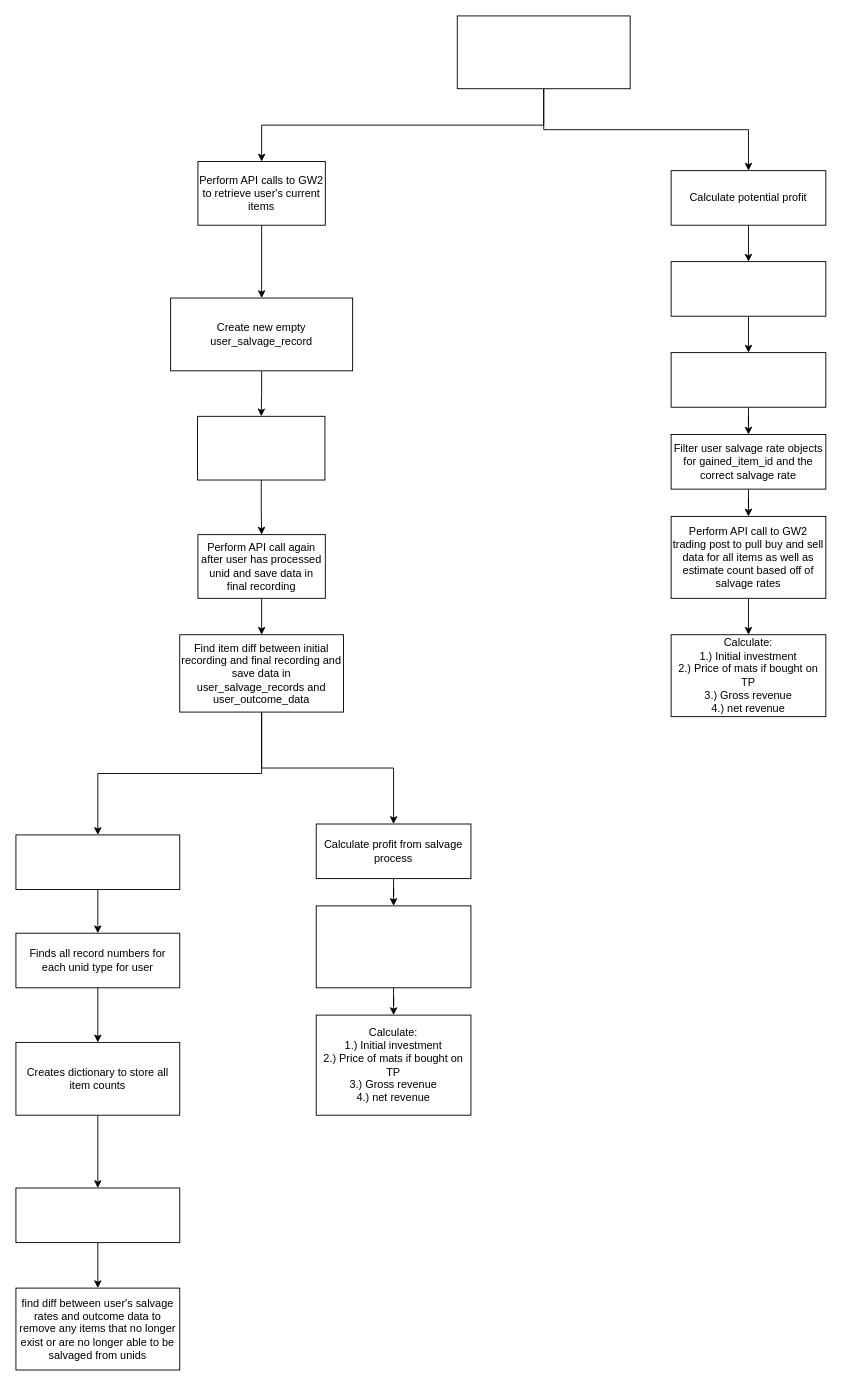
The diagram is 842 pixels wide and 1386 high, and some of its shapes have lost their labels. The shapes that lost their labels are listed below. From the top down, each one's box as (x1, y1, x2, y2) in pixels, then its label:
(456, 15, 630, 89): Taking initial and final recordings for data warehouse
(670, 261, 826, 316): User input unid type, unit count, unid price (optional)
(670, 352, 826, 407): calculate salvage cost based on unid type
(197, 415, 325, 480): Save Item id and quantity to initial recording in data warehouse
(15, 834, 180, 890): Update User_Salvage_Rates
(315, 905, 471, 988): Perform API call to GW2 trading post to pull buy and sell data for all items
(15, 1187, 180, 1243): Uses data in dictionary to calculate salvage rate for each unid type
